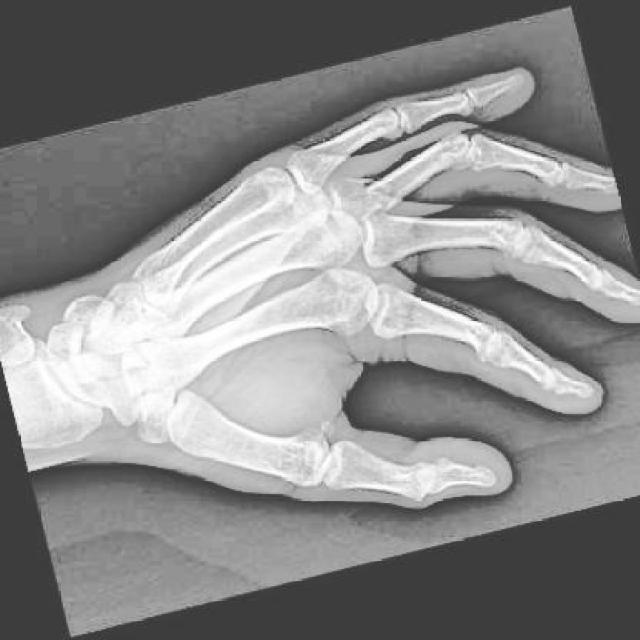Fracture: (352, 167, 403, 216)
